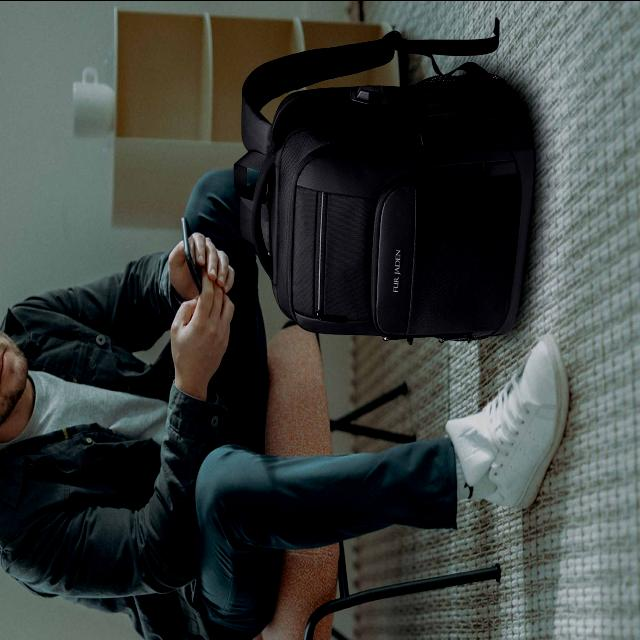backpack: (234, 18, 537, 345)
